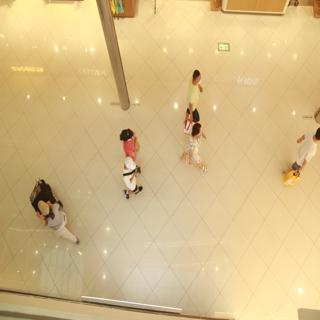person: (29, 183, 80, 250), (178, 120, 208, 172), (186, 61, 211, 121), (120, 151, 145, 206), (116, 117, 144, 159)
